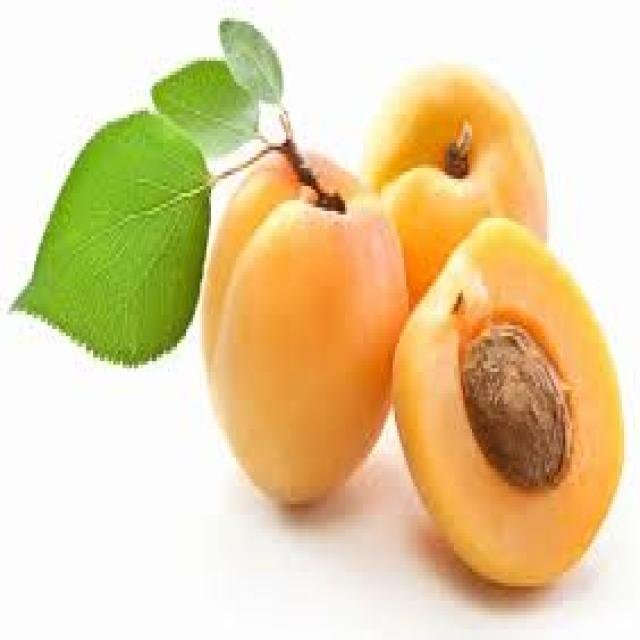kayisi: (240, 188, 404, 485)
kayisi-cekirdegi: (458, 306, 584, 499)
kayisi-yapragi: (44, 93, 209, 352)
